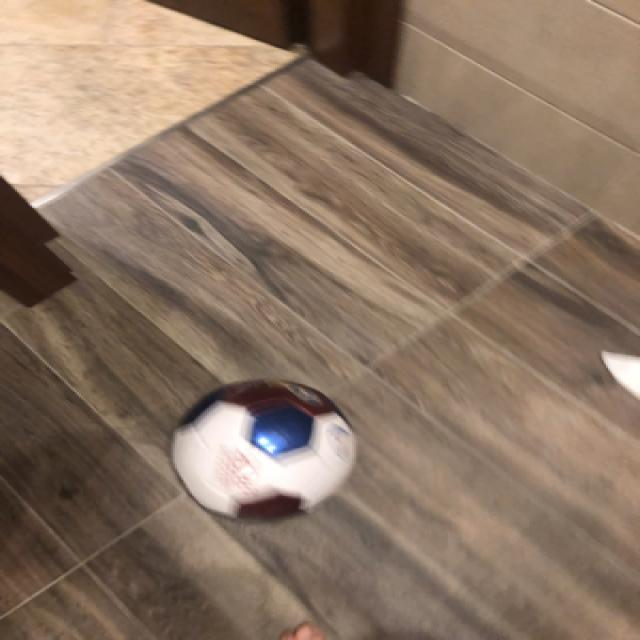soccer_ball: (167, 379, 354, 522)
